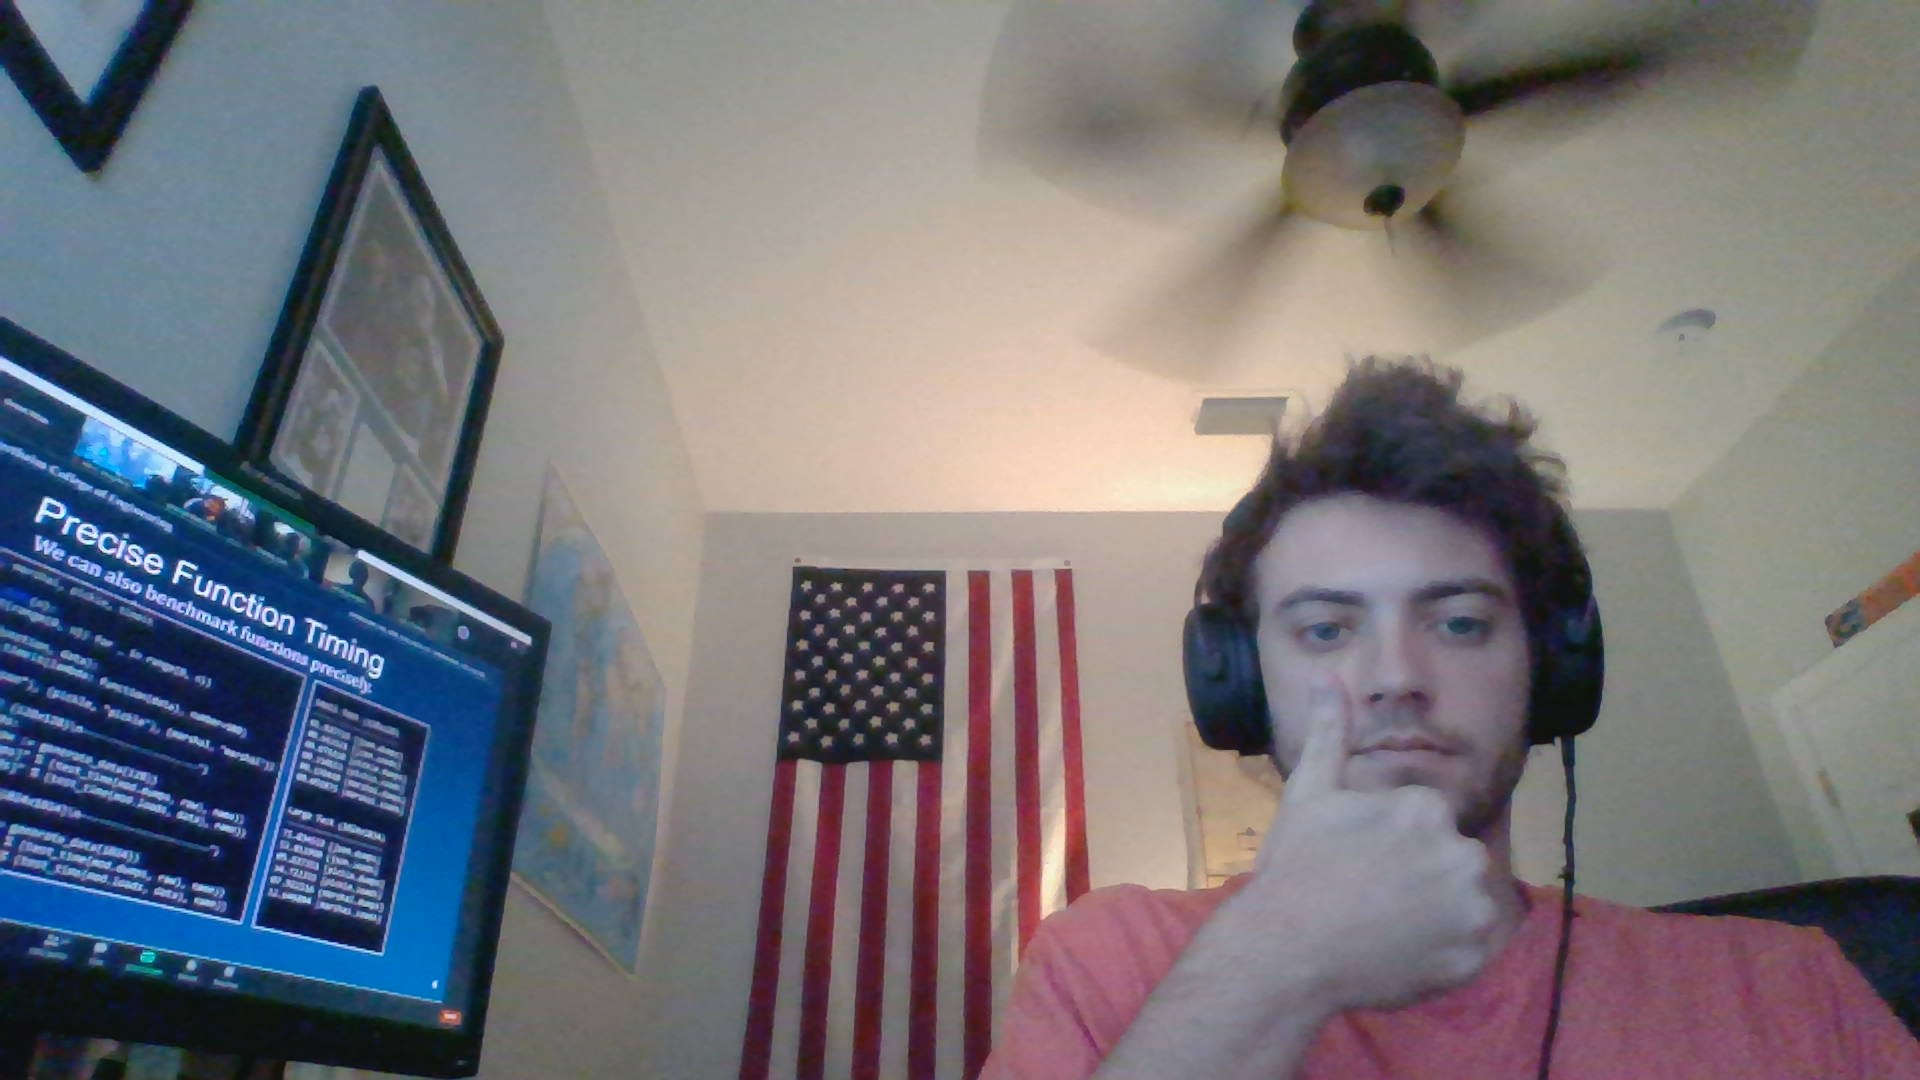Right Thumb Up: (1193, 661, 1530, 1021)
